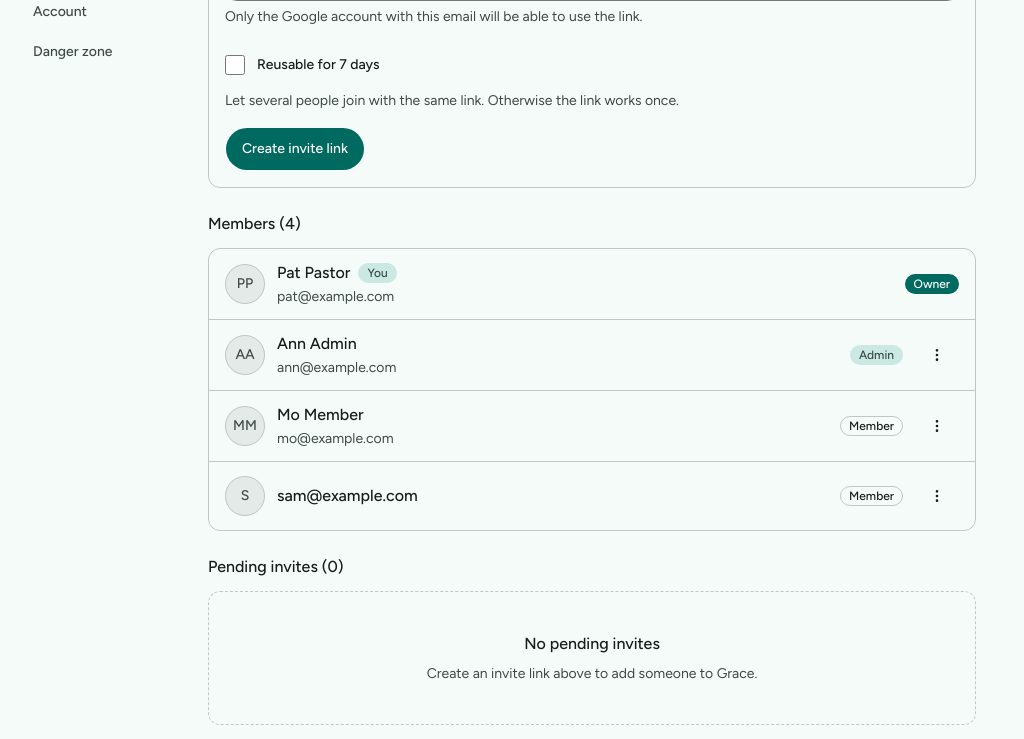
Scenario: Settings → People: Members (slice 6b-2a) › lets the owner make an admin a member at once, and the badge follows
(page scrolled)
What coordinates should you click on to do the following:
click the button named "Actions for Ann Admin"
I would click on:
 (937, 355)
Its box is 915,333 -> 959,377.
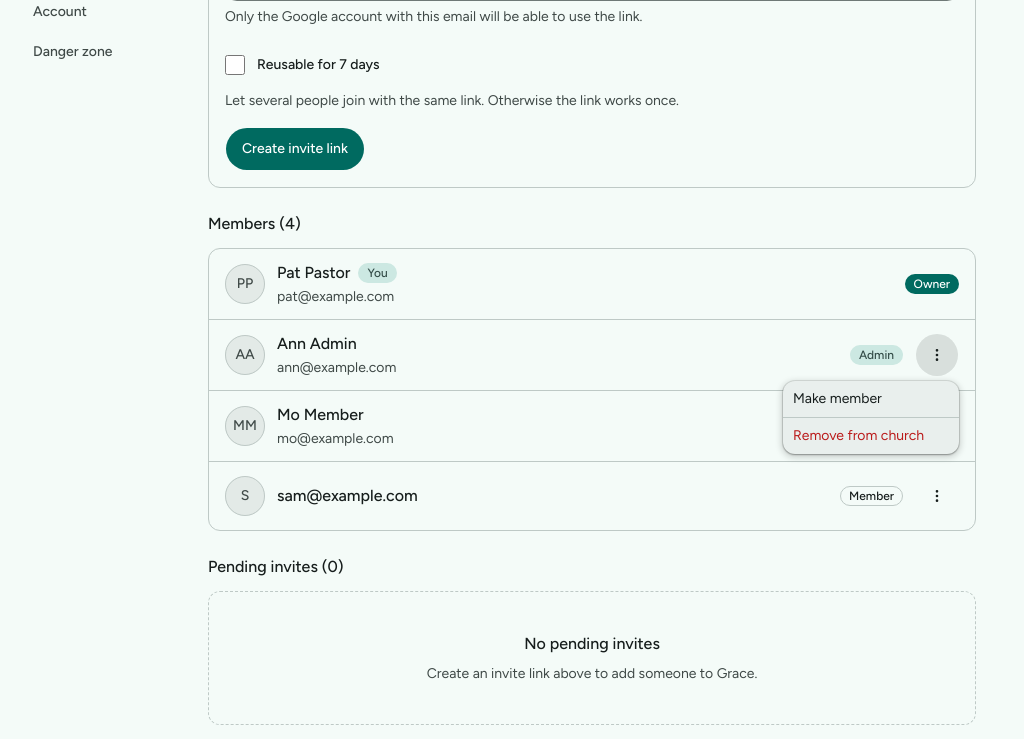
expect the menu items read "Make member", "Remove from church", in this order: met
What coordinates should you click on to do the following:
click the menu item "Make member"
I would click on:
 (837, 398)
Its box is 793,390 -> 882,407.
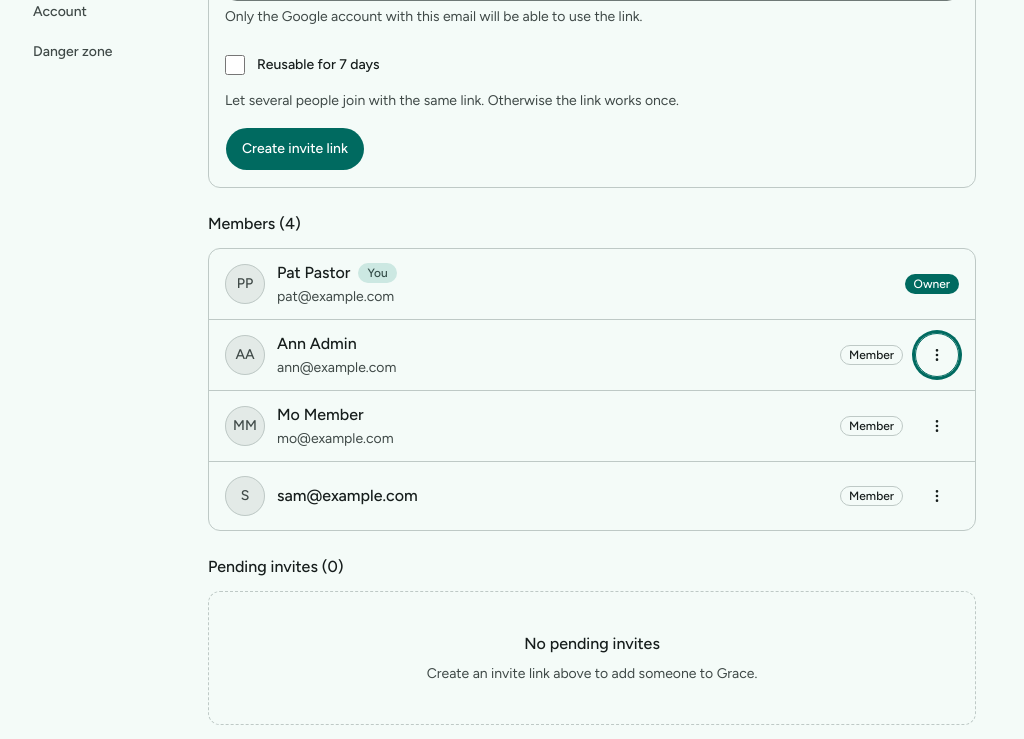
expect the text "Member" in the row of "AA" is shown: met, box 849,348 -> 894,362
